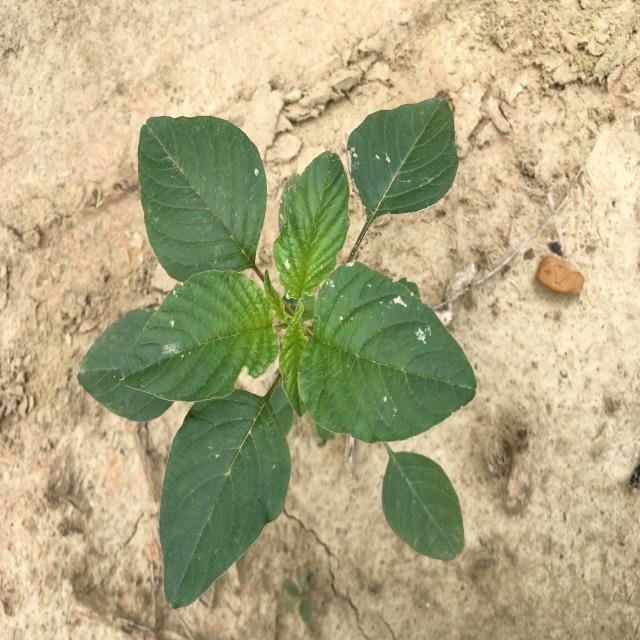PalmerAmaranth: (76, 97, 477, 611)
